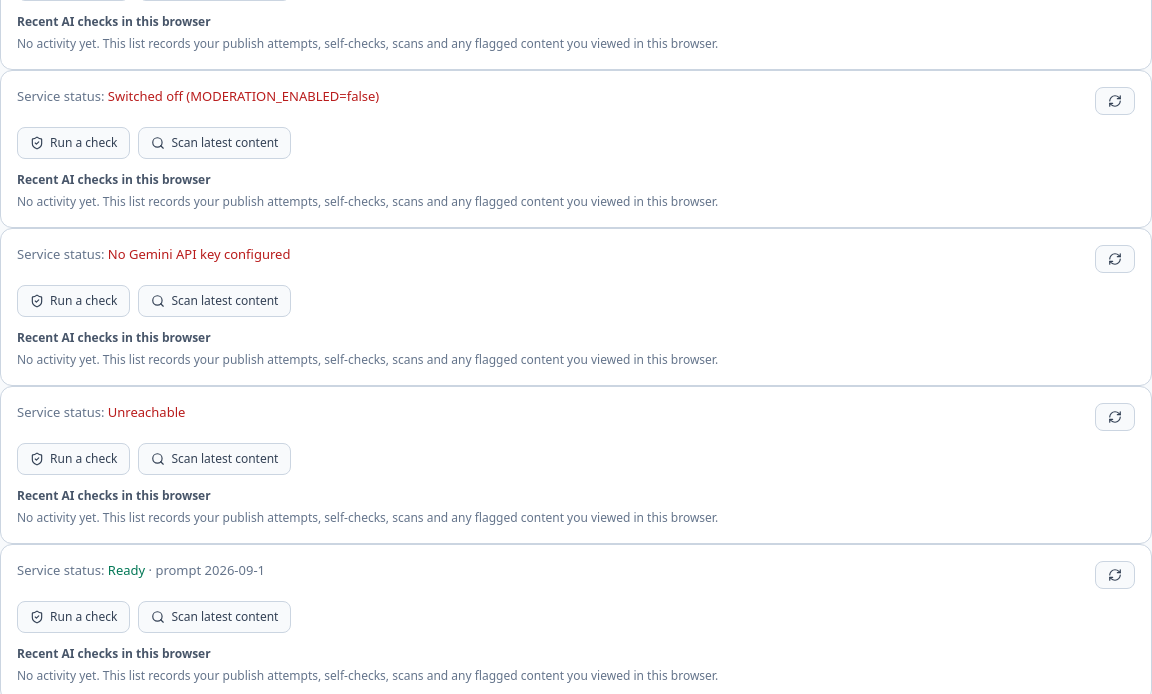
Run a check: everything works
The image size is (1152, 694).
(page scrolled)
Step 1. Click the 5th button "Run a check" → [74, 617], box [17,601,130,633]
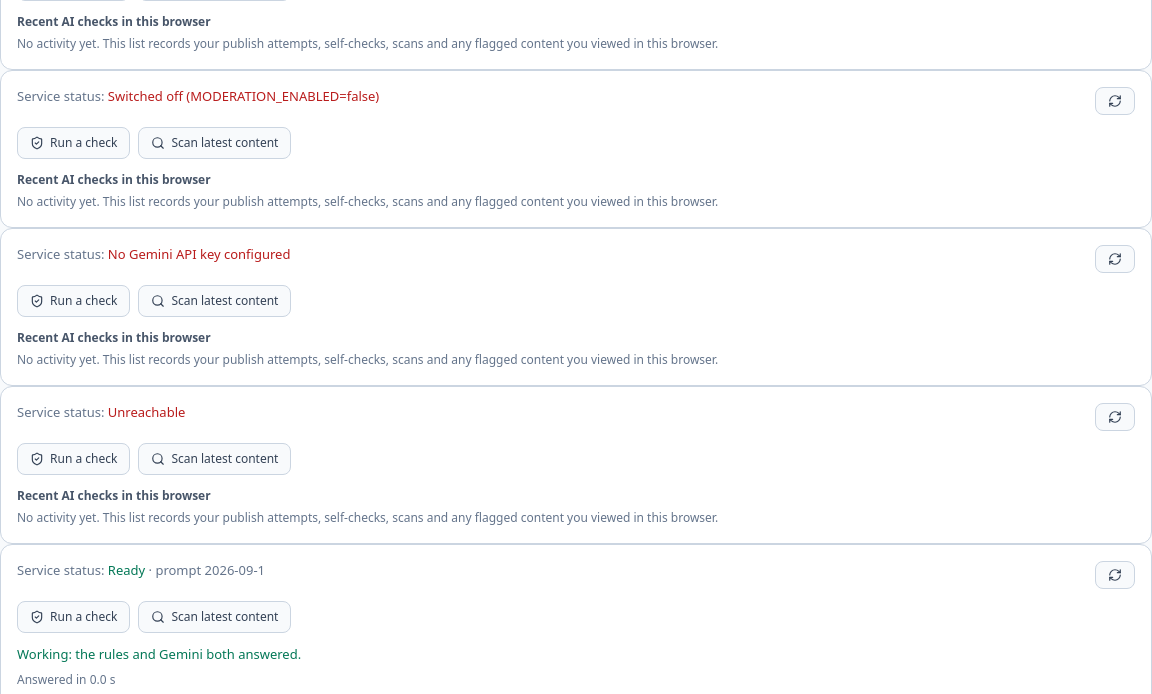
Check: the text "self-check" is shown, box [17,35,718,52]
Check: the text "Working: the rules and Gemini both answered." is shown, box [17,645,301,663]
Check: the text "Answered in 0.0 s" is shown, box [17,670,116,688]
